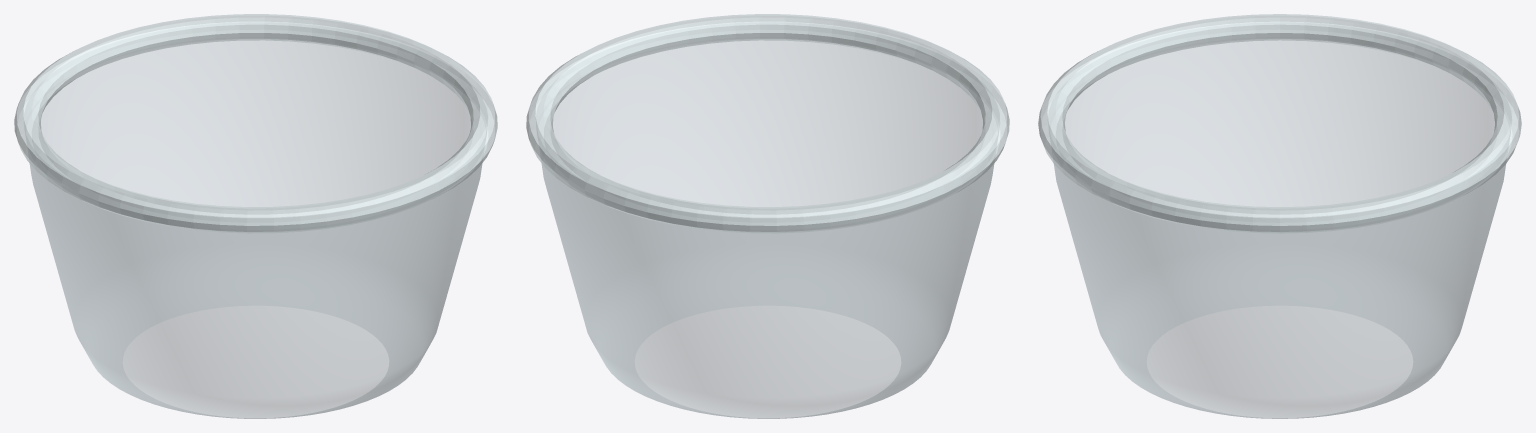
Rendered from glass_cup.glb.
The picture shows the model from 3 angles, left to right: view 1: azimuth 30°, elevation 25°; view 2: azimuth 150°, elevation 25°; view 3: azimuth 270°, elevation 25°; orthographic projection.
Visible parts, largest first — view 1: Glass cup, Cup rim; view 2: Glass cup, Cup rim; view 3: Glass cup, Cup rim.
Boxes of the visible parts, x1=… form: Glass cup: x1=24, y1=22, x2=487, y2=418; Cup rim: x1=14, y1=14, x2=497, y2=233; Glass cup: x1=536, y1=22, x2=999, y2=418; Cup rim: x1=526, y1=14, x2=1009, y2=233; Glass cup: x1=1048, y1=23, x2=1511, y2=418; Cup rim: x1=1038, y1=14, x2=1521, y2=233.
Size of the model in its own units: 1.27 by 0.7233 by 1.27.
